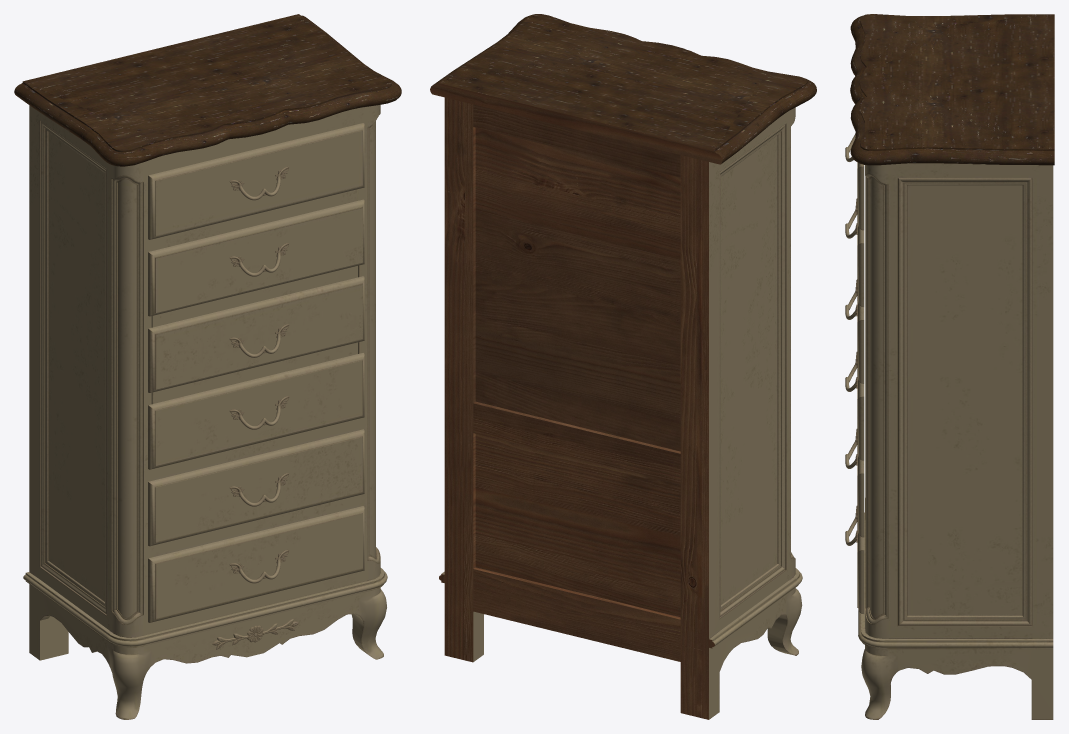
File: example49.glb
3 views of the same model, side by side, from view 1: azimuth 30°, elevation 25°; view 2: azimuth 150°, elevation 25°; view 3: azimuth 270°, elevation 25° (orthographic).
Parts seen in each view (by area): view 1: Buffer Layer (×2); view 2: Buffer Layer (×3); view 3: Buffer Layer (×2).
Part boxes in pixels (left/top/right/bottom): Buffer Layer (×2): left=14, top=14, right=401, bottom=719; Buffer Layer (×3): left=430, top=14, right=816, bottom=719; Buffer Layer (×2): left=845, top=14, right=1054, bottom=719.
Size of the model in its own units: 0.5 by 0.9327 by 0.3088.
3 materials, 3 textured.
